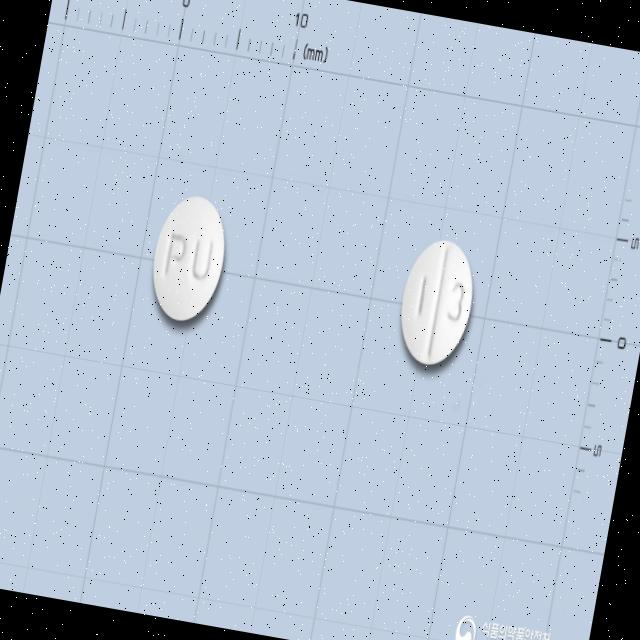Rheumakin Tab: (143, 188, 236, 328), (392, 234, 481, 370)
